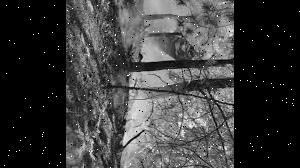fire: (116, 72, 150, 168)
